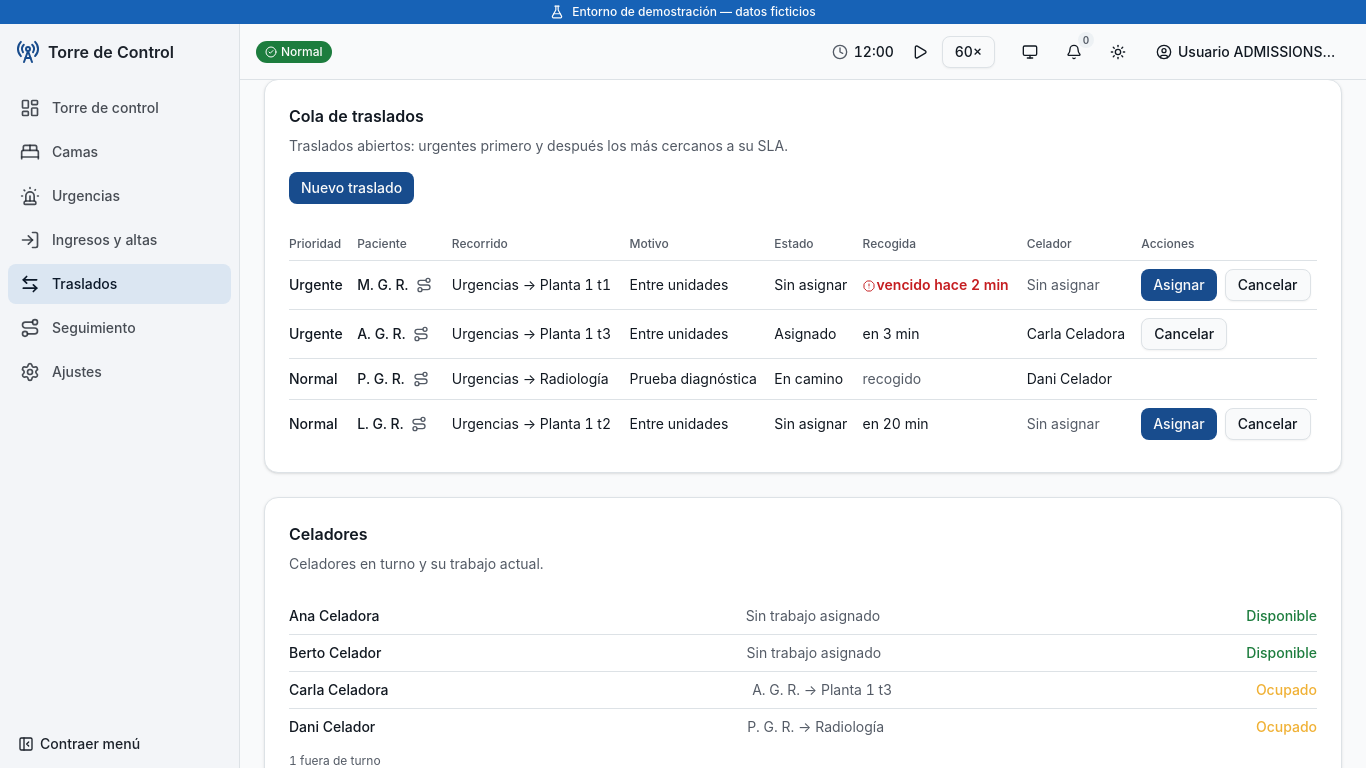
Traslados: dispatch board › assigns the suggested available porter from the sheet
This screenshot has width=1366, height=768.
(page scrolled)
Expected: the table named "Cola de traslados" is shown, [289,228,1317,448]
Click the button with aria-label "Asignar:": (1179, 424) [1141,408,1217,440]
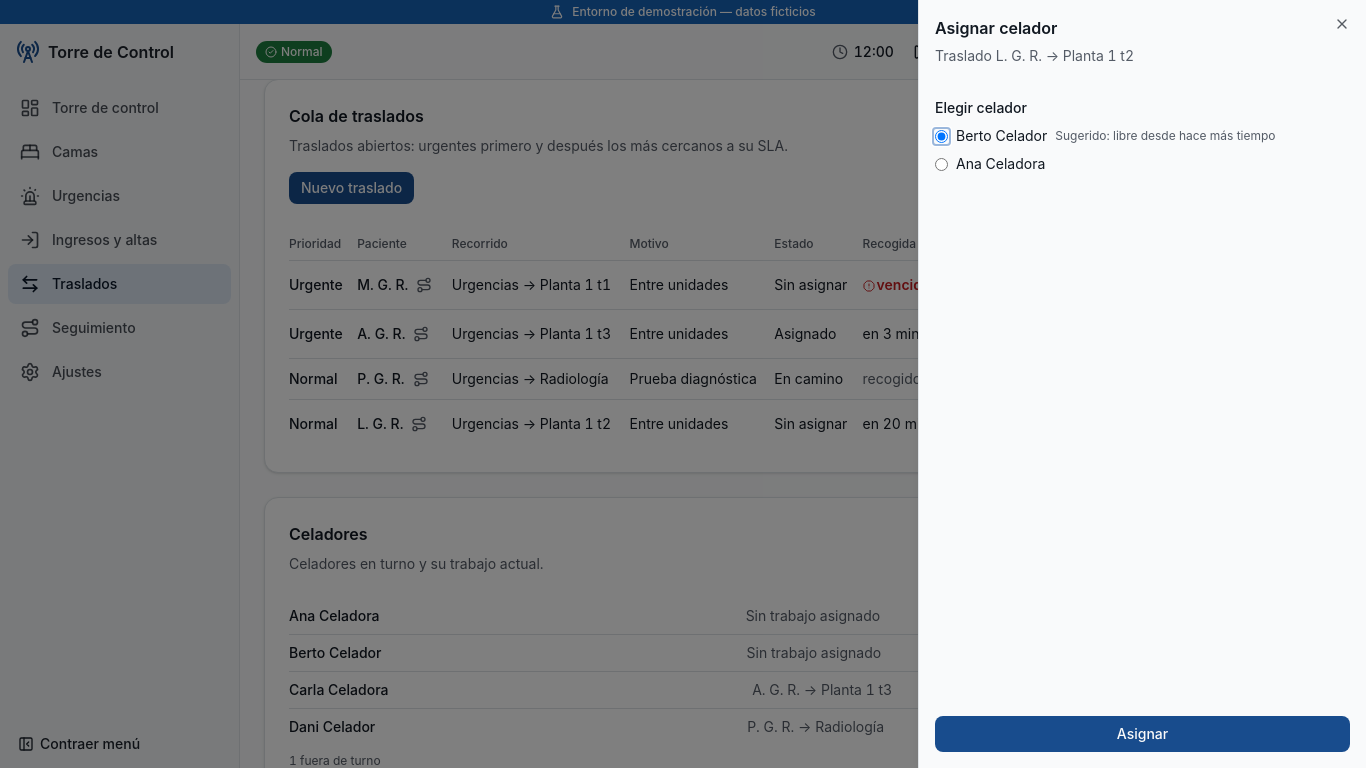
Result: the number of radio buttons is 2 at [935,130,948,142]; [935,158,948,170]
Click the button "Asignar": (1142, 734) [935,716,1350,752]
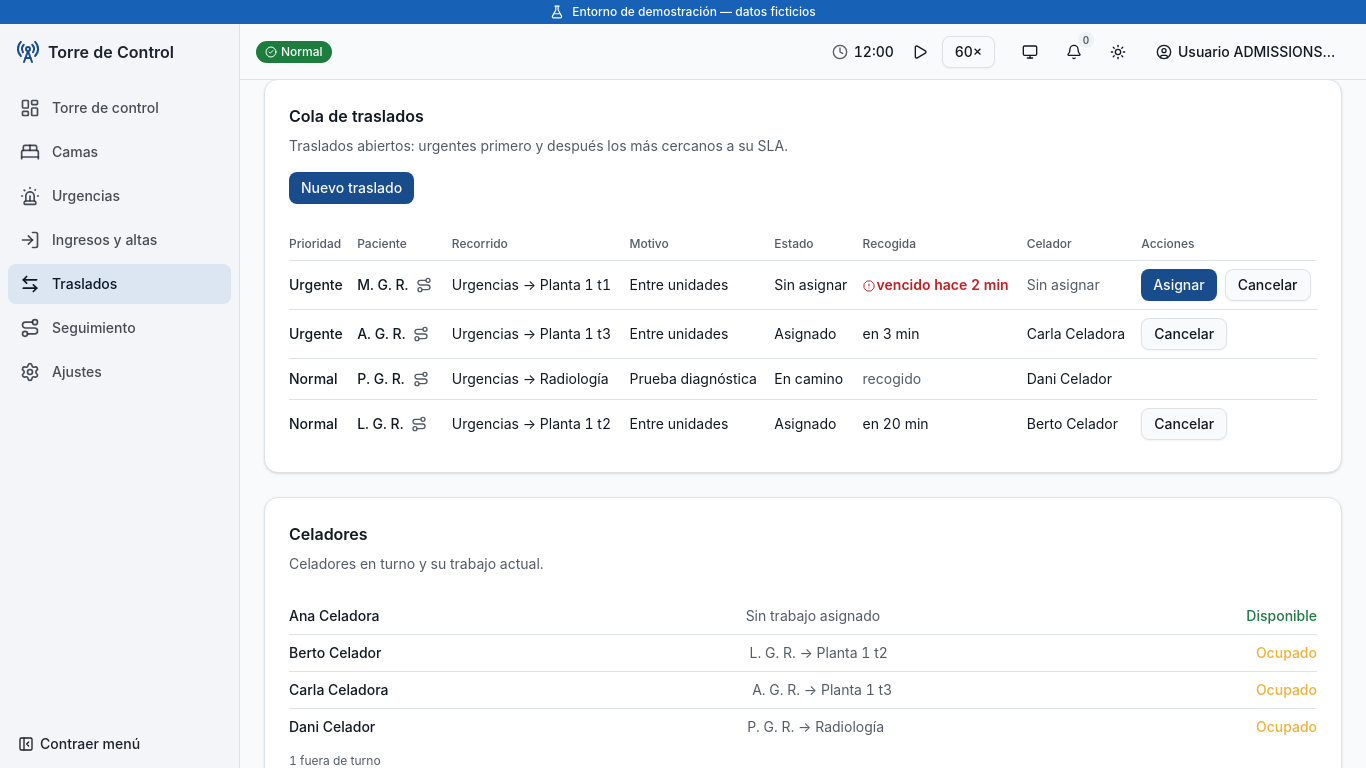
Result: the dialog is gone
